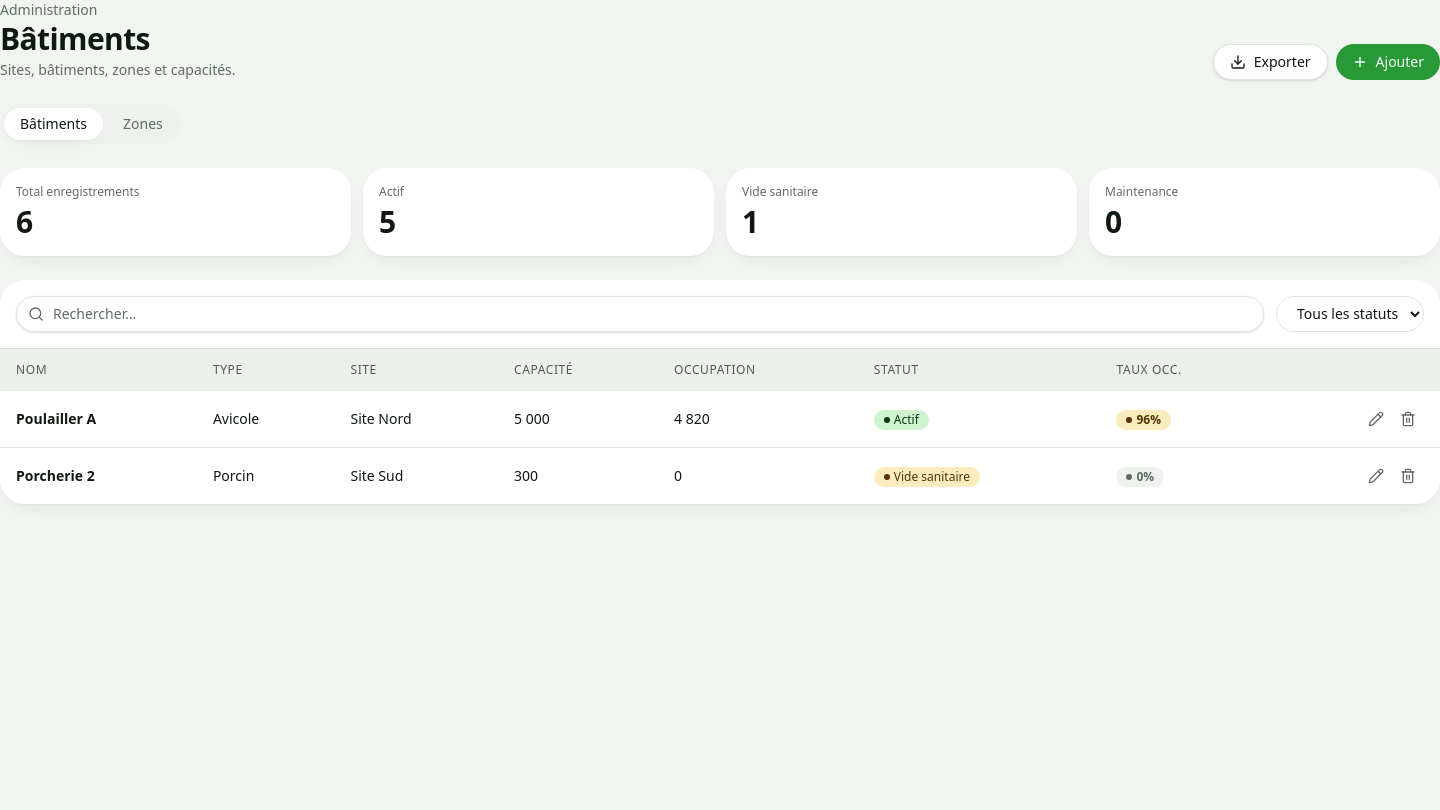
Scenario: ModulePage with the batiments config › creates a record, then refetches the list
Expected: the text "Poulailler A" is shown, [0,390,197,447]
Click the button "Ajouter". click: (1388, 62)
box: [1336,44,1439,80]
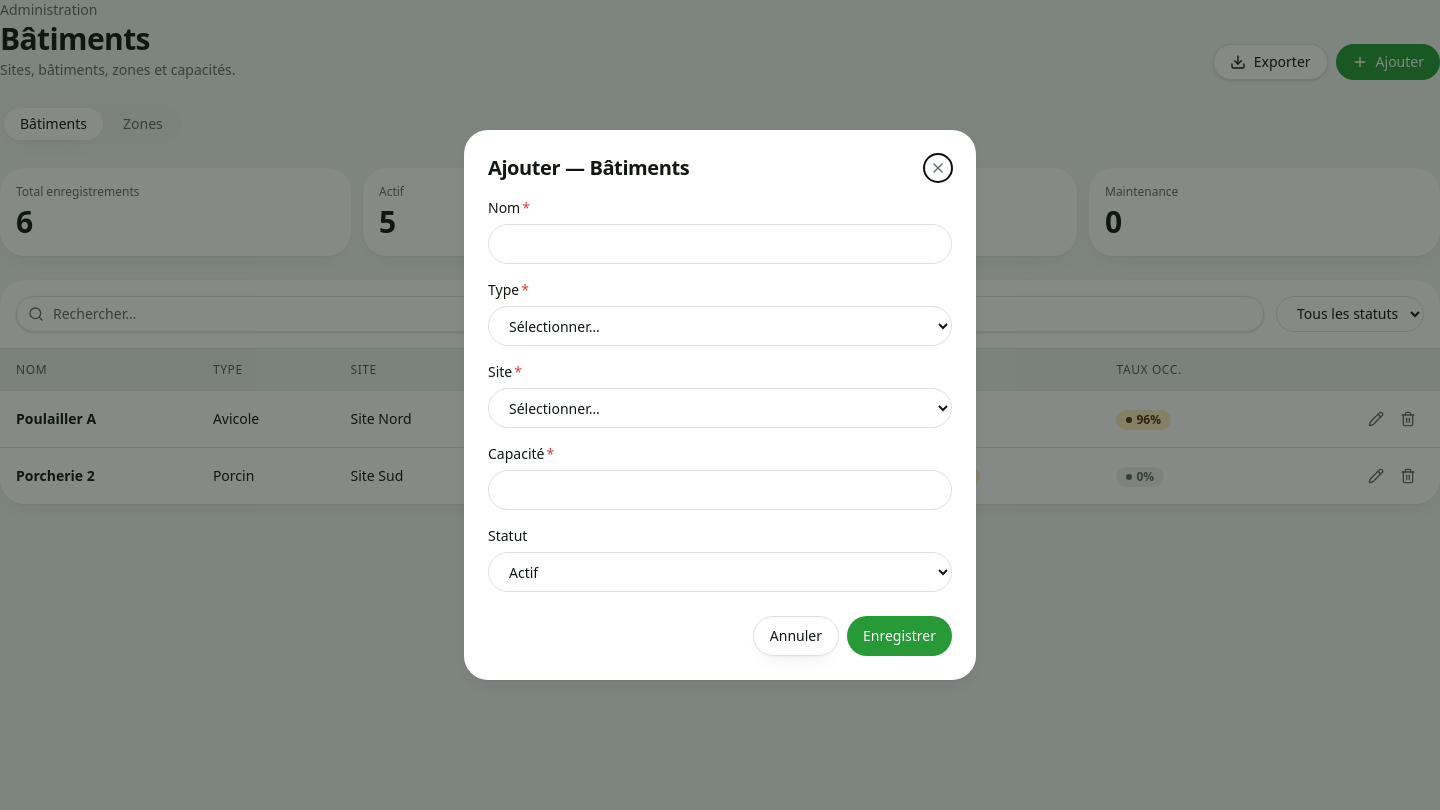
Type "Poulailler D" into the field labelled "Nom". click: (720, 244)
box: [488,224,952,264]
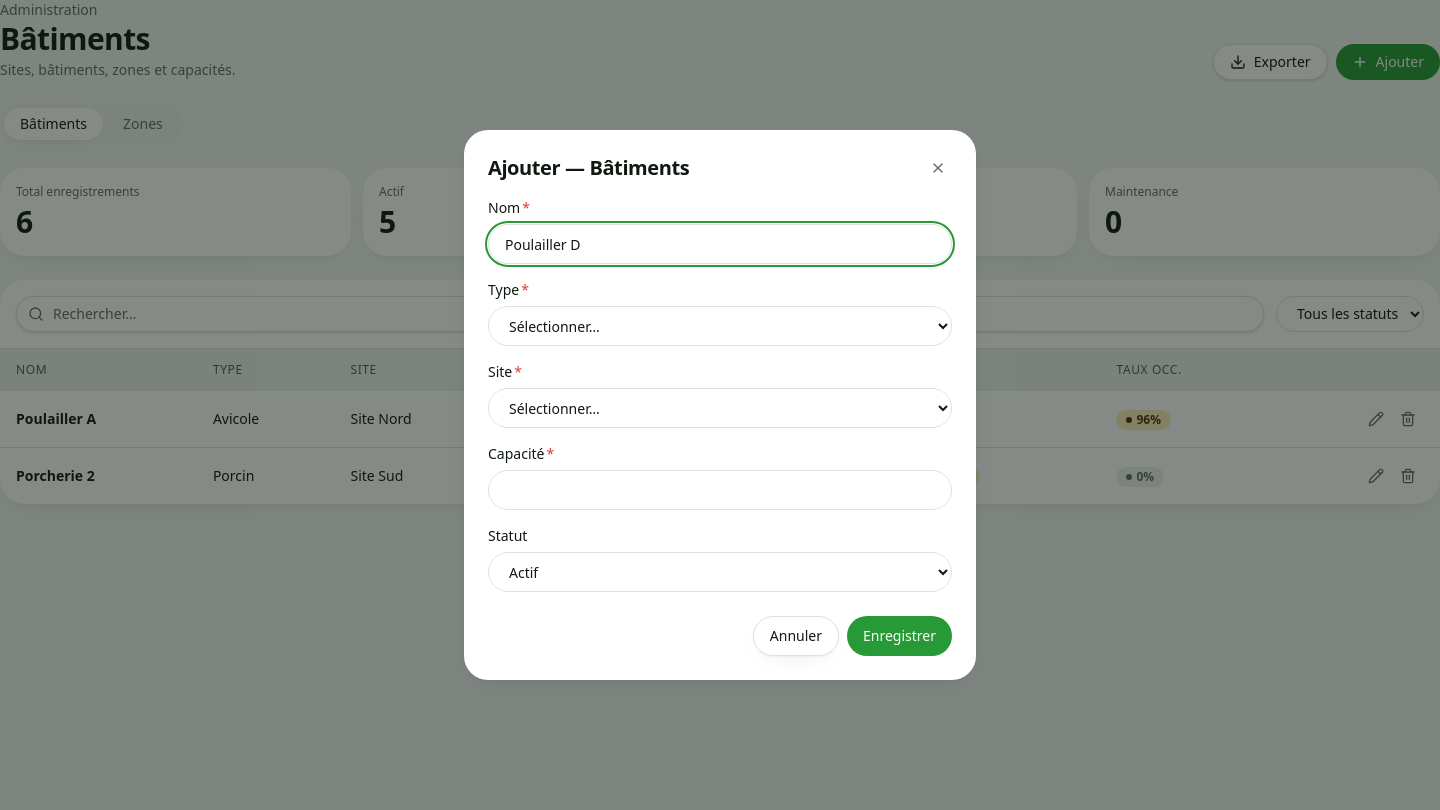
Select "Avicole" in the dropdown labelled "Type". click: (720, 326)
box: [488,306,952,346]
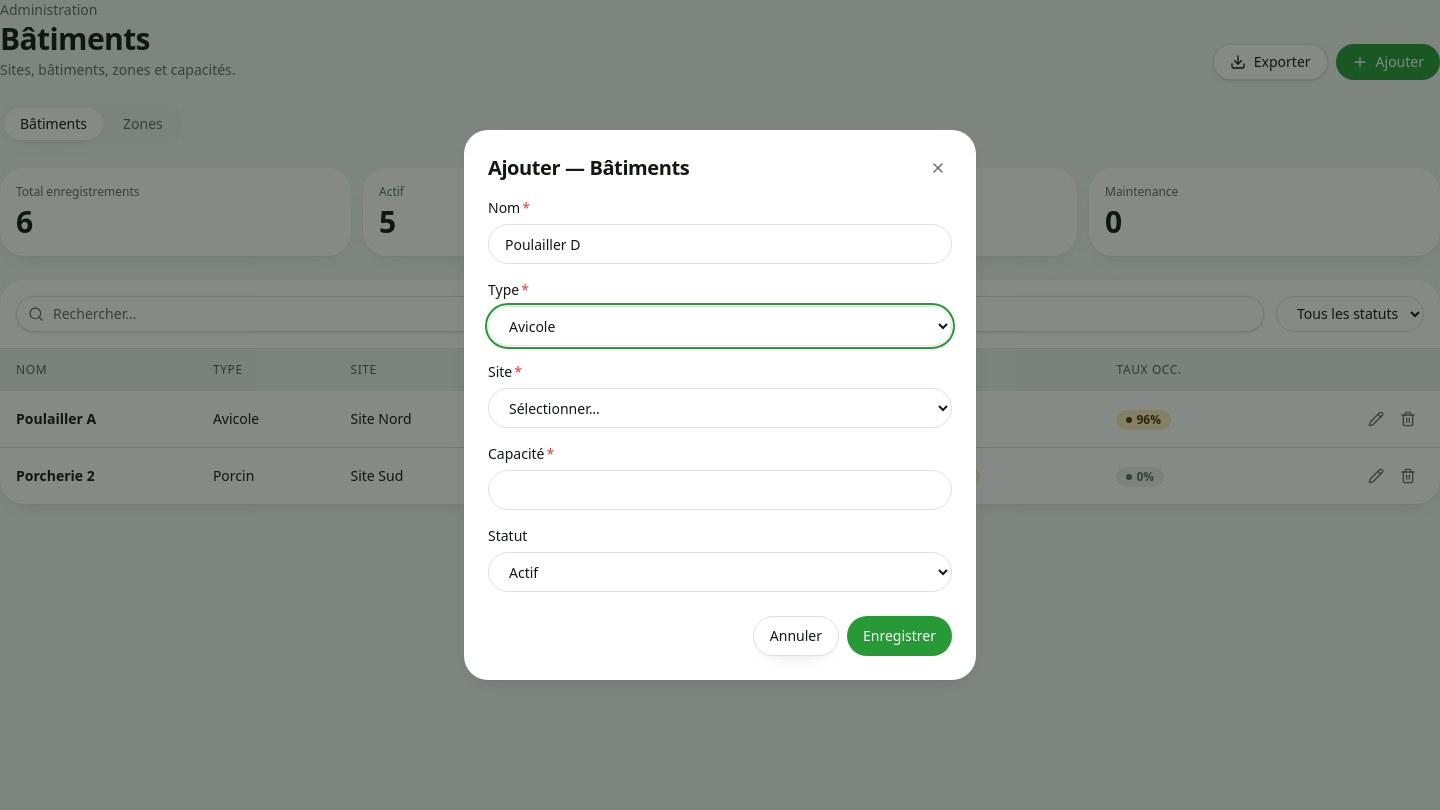
Select "Site Nord" in the dropdown labelled "Site". click: (720, 408)
box: [488,388,952,428]
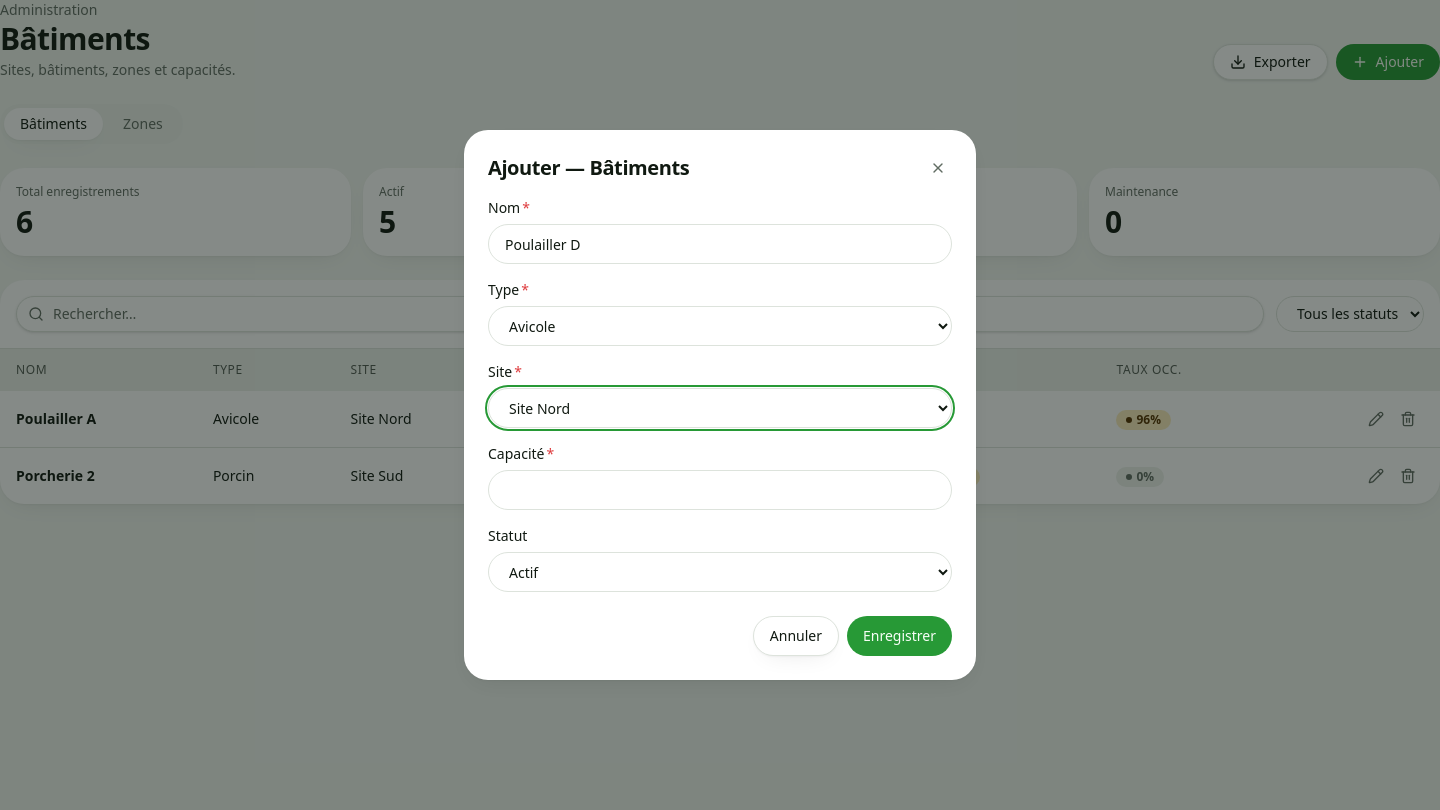
Type "1200" into the number field labelled "Capacité". click: (720, 490)
box: [488,470,952,510]
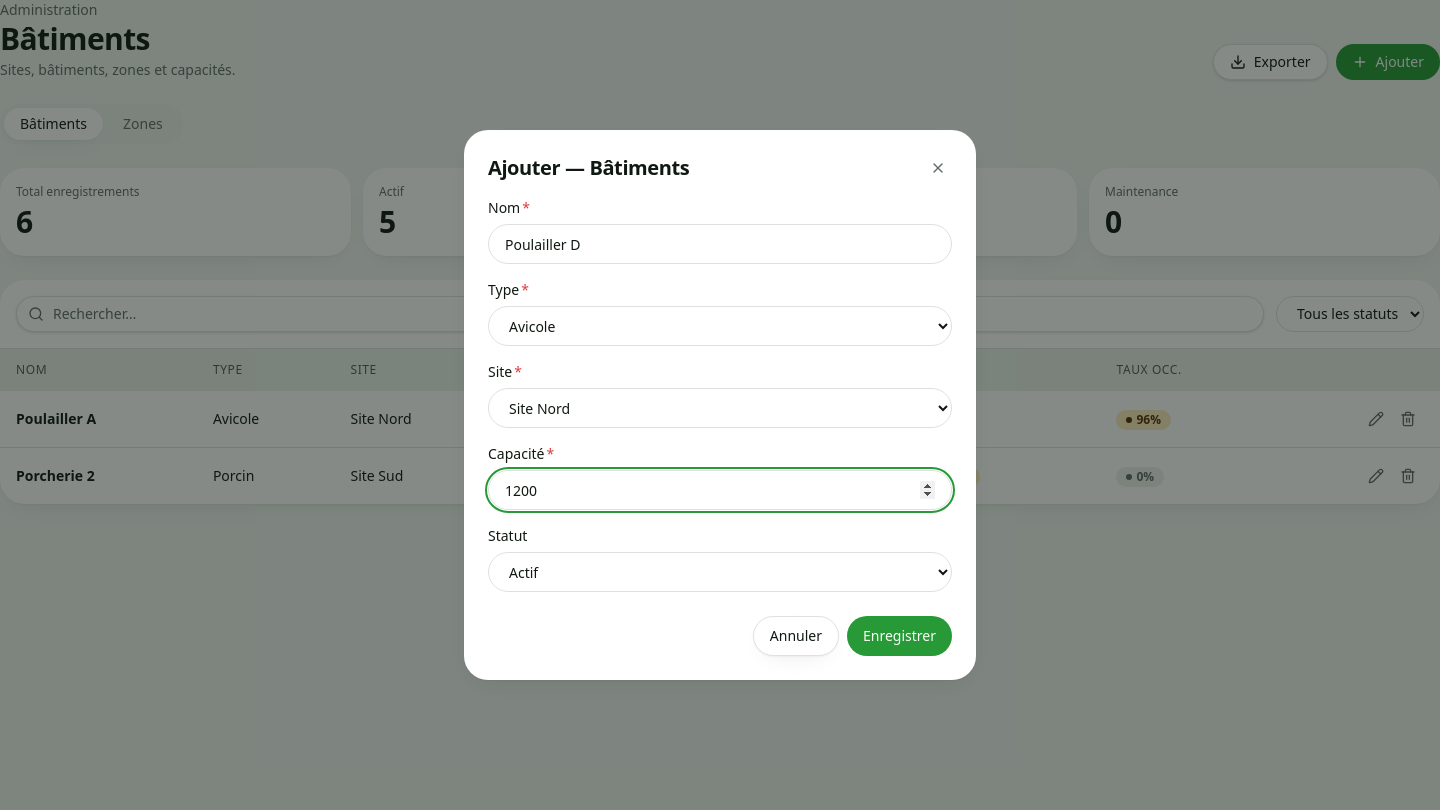
Click the button "Enregistrer". click: (900, 636)
box: [847,616,952,656]
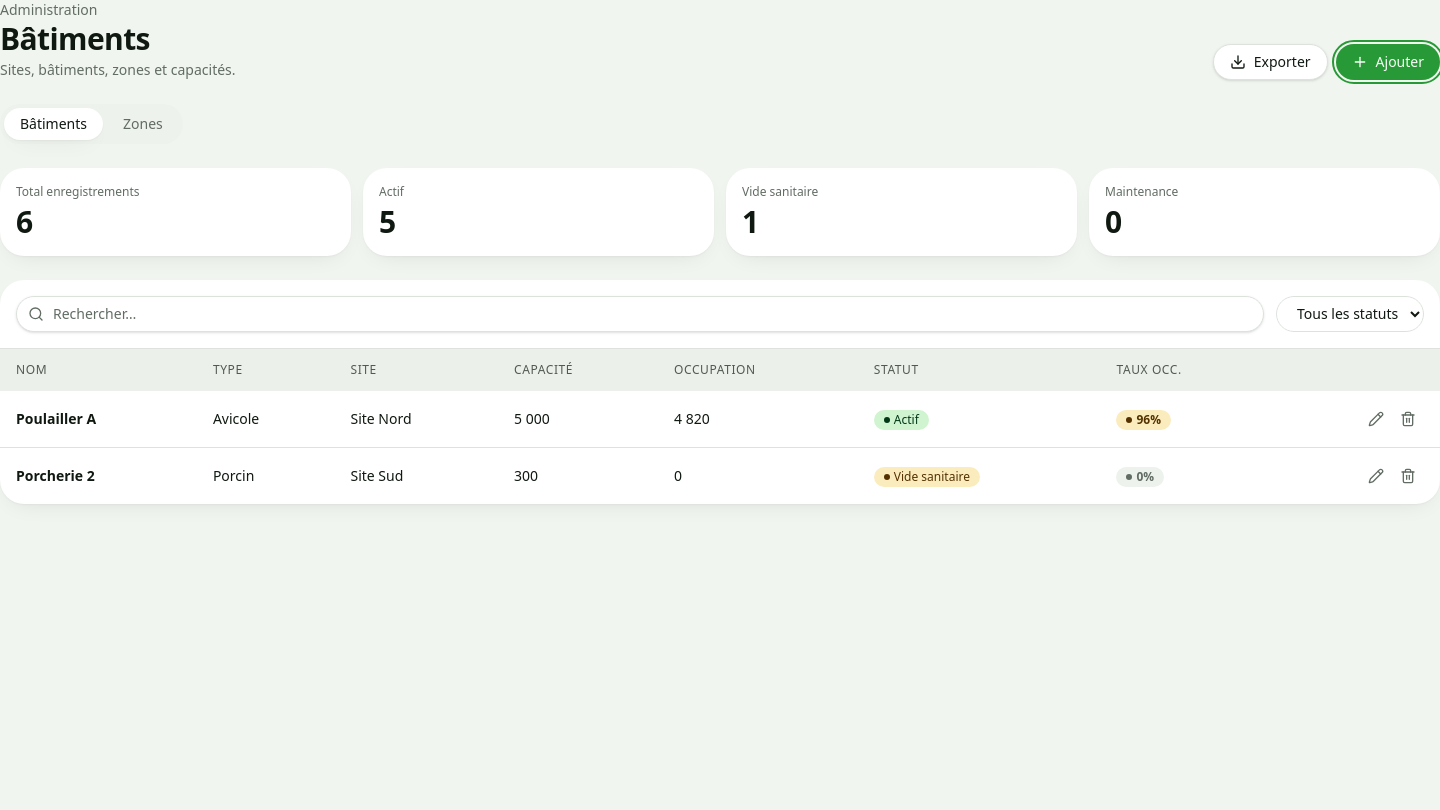
Result: the dialog is gone
